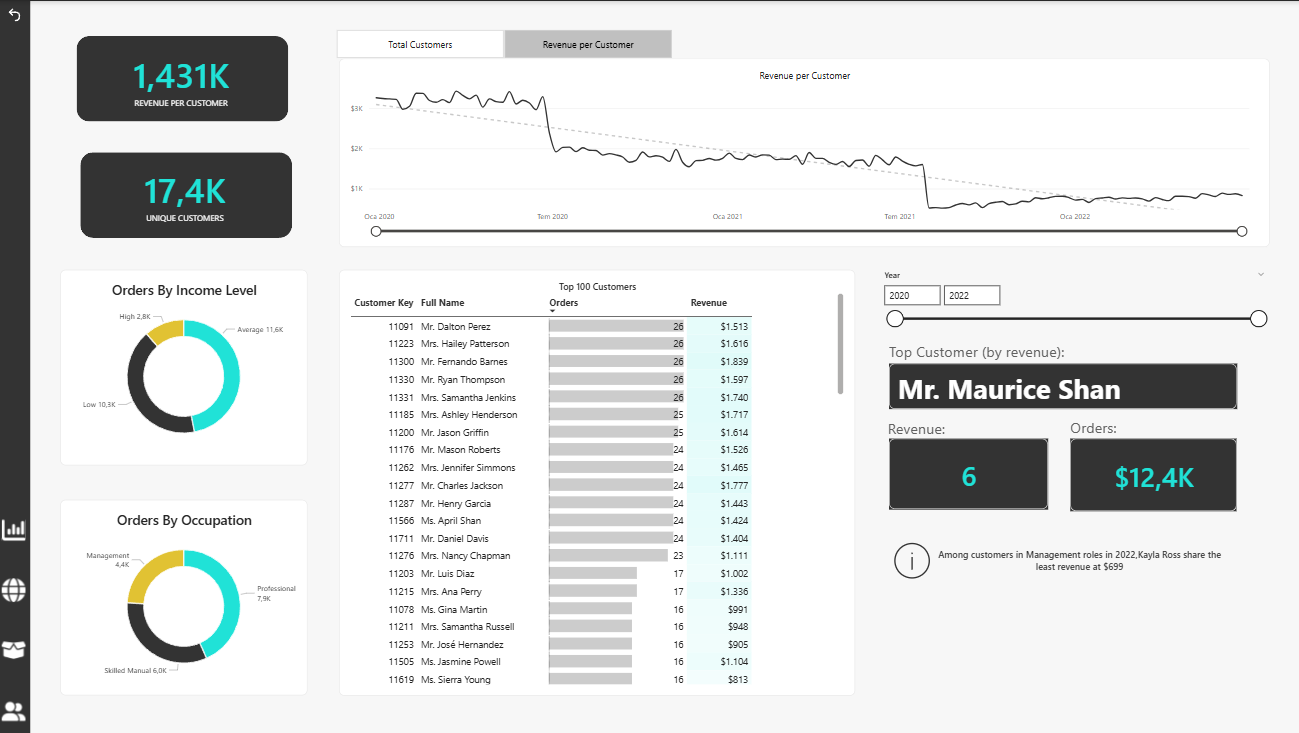

The dashboard page shown, as its layout file describes it:
{"tool":"powerbi","page":{"name":"Customer Detail","canvas":[1920,1080],"ordinal":3},"visuals":[{"type":"shape","box":[0,0,46,1080],"z":0},{"type":"shape","box":[119.3,223.5,312,126.2],"z":0,"group":"g1"},{"type":"actionButton","box":[0,748,46,64],"z":0,"group":"g2"},{"type":"shape","box":[114.3,51.9,312,126],"z":1000,"group":"g1"},{"type":"group","id":"g1","title":"Group 2","box":[114.3,51.9,317,297.8],"z":1000},{"type":"actionButton","box":[0,836.7,46,64],"z":1000,"group":"g2"},{"type":"cardVisual","fields":{"Data":["Measure Table.Total Customers"]},"box":[71.4,190.4,404.7,190.4],"z":2000},{"type":"actionButton","box":[0,925.3,46,64],"z":2000,"group":"g2"},{"type":"lineChart","fields":{"Category":["Calendar Lookup.Date Hierarchy.Start of Year","Calendar Lookup.Date Hierarchy.Start of Month","Calendar Lookup.Date Hierarchy.Start of Week","Calendar Lookup.Date Hierarchy.Date"],"Y":["Measure Table.Average Revenue per Customer"]},"box":[500,85,1370,277.5],"z":3000},{"type":"actionButton","box":[0,1014,46,64],"z":3000,"group":"g2"},{"type":"cardVisual","fields":{"Data":["Measure Table.Average Revenue per Customer"]},"box":[67.1,19.5,404.7,190.4],"z":4000},{"type":"donutChart","title":"Orders By Income Level","fields":{"Category":["Customer Lookup.Income Level"],"Y":["Measure Table.Total Orders"]},"box":[90,396,364,288],"z":5000},{"type":"donutChart","title":"Orders By Occupation","fields":{"Category":["Customer Lookup.Occupation"],"Y":["Measure Table.Total Orders"]},"box":[90,734,364,288],"z":6000},{"type":"tableEx","title":"Top 100 Customers","fields":{"Values":["Customer Lookup.CustomerKey","Customer Lookup.Full Name","Measure Table.Total Orders","Measure Table.Total Revenue"]},"box":[500,395,760,627.5],"z":7000},{"type":"cardVisual","fields":{"Data":["Measure Table.Total Orders (Customer Detail)"]},"box":[1309.9,644.3,234.7,104.5],"z":8000},{"type":"cardVisual","fields":{"Data":["Measure Table.Total Revenue (Customer Detail)"]},"box":[1578,643.5,245,107.5],"z":9000},{"type":"textbox","box":[1578,613.5,170,30],"z":10000},{"type":"cardVisual","fields":{"Data":["Measure Table.Full Name (Customer Detail)"]},"box":[1310.5,533.5,512.5,67.5],"z":11000},{"type":"textbox","box":[1310,500,332,34],"z":12000},{"type":"slicer","fields":{"Values":["Calendar Lookup.Year"]},"box":[1295,395,575,105],"z":13000},{"type":"textbox","box":[1309.3,614.6,235.9,30.3],"z":14000},{"type":"actionButton","box":[1310,788.3,513.3,73.3],"z":15000},{"type":"actionButton","box":[0,0,45,40],"z":16000},{"type":"group","id":"g2","title":"Navigation Buttons","box":[0,748,46,330],"z":17000},{"type":"slicer","fields":{"Values":["Customer Metric Selection.Customer Metric Selection"]},"box":[477.5,40,532.5,45],"z":18000}]}

Visuals, with their boxes on the page's 1920x1080 design canvas (x1, y1, x2, y2). These are canvas units, not pixel positions in the 1299x733 screenshot, which may show the page scaled, cropped or inside an application window:
shape: [0,0,46,1080]
shape: [119,224,431,350]
actionButton: [0,748,46,812]
shape: [114,52,426,178]
"Group 2" group: [114,52,431,350]
actionButton: [0,837,46,901]
cardVisual - Measure Table.Total Customers: [71,190,476,381]
actionButton: [0,925,46,989]
lineChart - Calendar Lookup.Date Hierarchy.Start of Year x Calendar Lookup.Date Hierarchy.Start of Month: [500,85,1870,362]
actionButton: [0,1014,46,1078]
cardVisual - Measure Table.Average Revenue per Customer: [67,20,472,210]
"Orders By Income Level" donutChart: [90,396,454,684]
"Orders By Occupation" donutChart: [90,734,454,1022]
"Top 100 Customers" tableEx: [500,395,1260,1022]
cardVisual - Measure Table.Total Orders (Customer Detail): [1310,644,1545,749]
cardVisual - Measure Table.Total Revenue (Customer Detail): [1578,644,1823,751]
textbox: [1578,614,1748,644]
cardVisual - Measure Table.Full Name (Customer Detail): [1310,534,1823,601]
textbox: [1310,500,1642,534]
slicer - Calendar Lookup.Year: [1295,395,1870,500]
textbox: [1309,615,1545,645]
actionButton: [1310,788,1823,862]
actionButton: [0,0,45,40]
"Navigation Buttons" group: [0,748,46,1078]
slicer - Customer Metric Selection.Customer Metric Selection: [478,40,1010,85]
